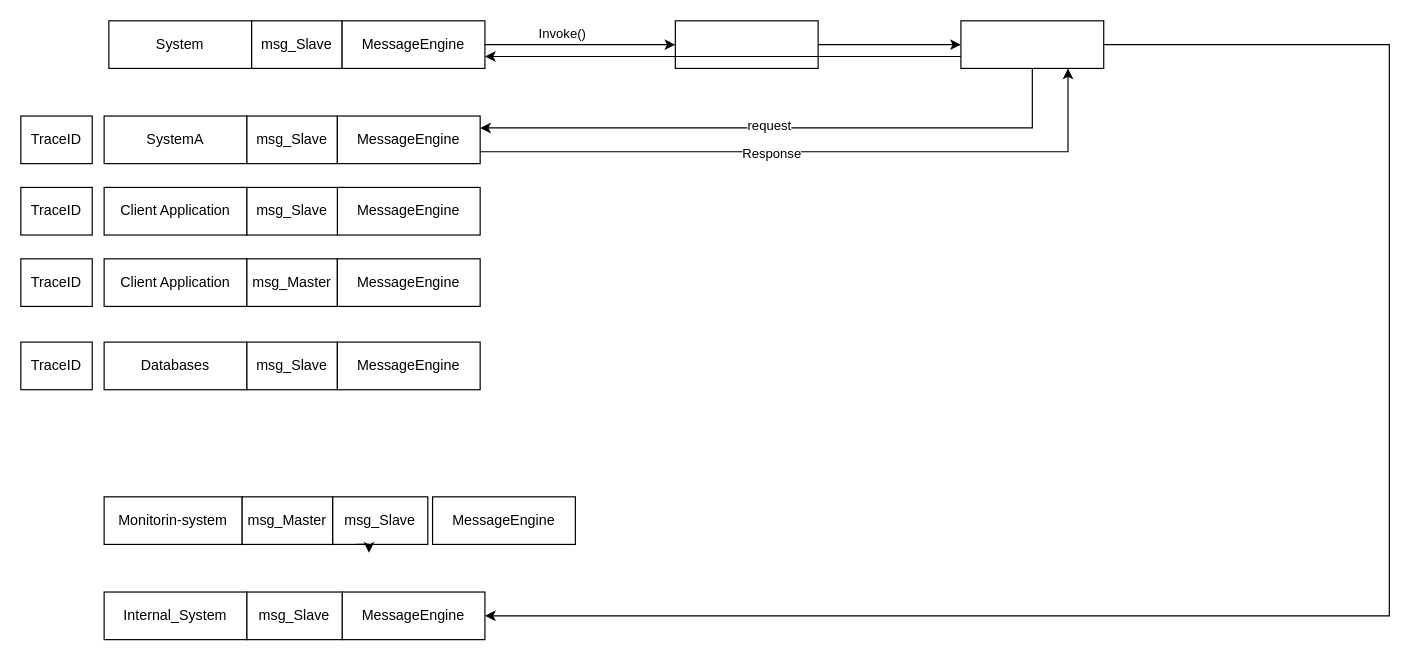
The diagram is 1420 pixels wide and 660 high, and some of its shapes have lost their labels. The shapes that lost their labels are listed below. From the top down, each one's centre as x and y in pixels, then its label:
At point (746, 44): "Invoke(SystemA)".
At point (1032, 44): "Message_Server".
